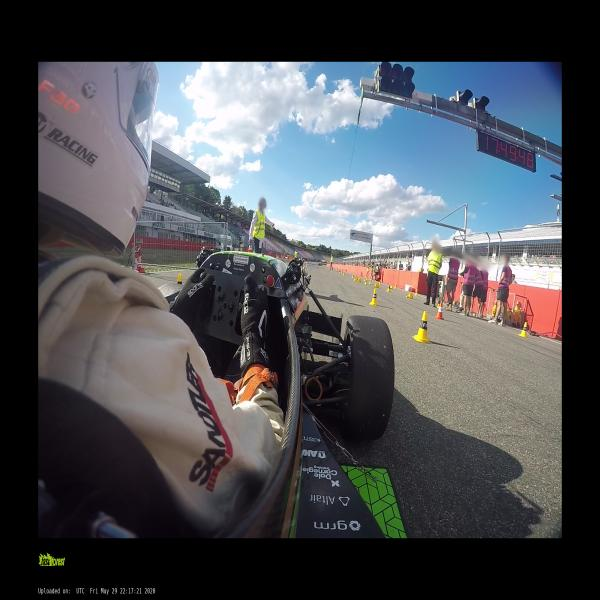orange_cone: (436, 302, 444, 319), (139, 260, 146, 273)
yellow_cone: (415, 311, 430, 342), (370, 288, 378, 306), (520, 322, 528, 338), (177, 274, 182, 285), (406, 292, 413, 299), (515, 300, 519, 309), (387, 284, 390, 292), (374, 282, 378, 288), (415, 289, 418, 296), (354, 275, 357, 281), (394, 284, 397, 290), (389, 285, 393, 289), (365, 278, 367, 284), (364, 276, 366, 282), (369, 279, 371, 284), (379, 280, 381, 285), (352, 274, 354, 278), (343, 272, 345, 275), (336, 269, 338, 271), (341, 271, 342, 274), (340, 271, 340, 274)
